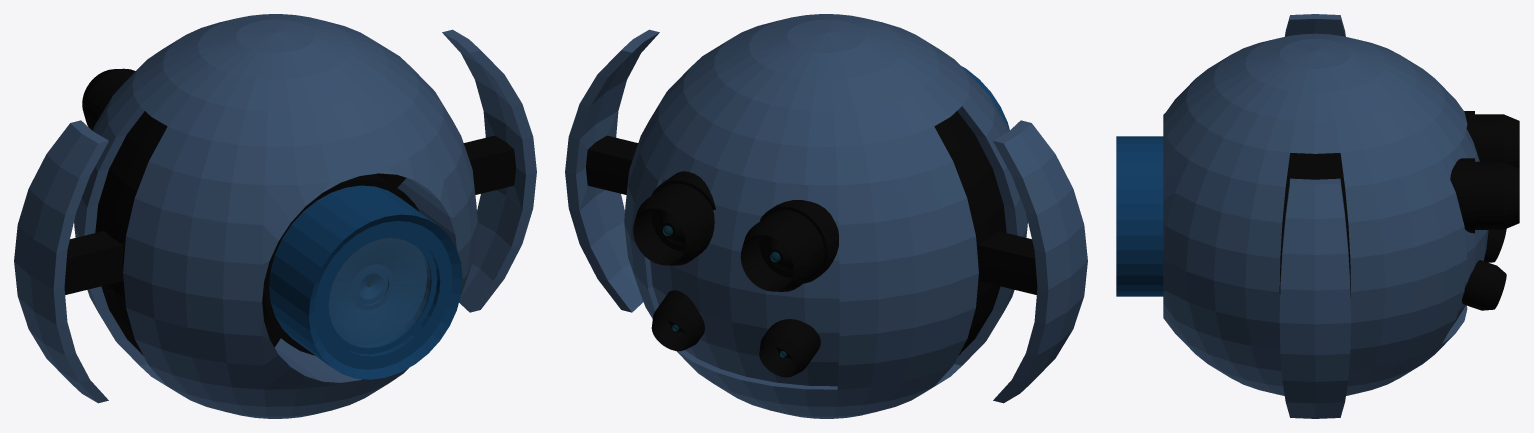
The model's file is AuroraNoMotion.fbx.
The picture shows the model from 3 angles, left to right: view 1: azimuth 30°, elevation 25°; view 2: azimuth 150°, elevation 25°; view 3: azimuth 270°, elevation 25°; orthographic projection. The views are drawn at different scales.
Visible parts, largest first — view 1: Aurora, AuroraWing; view 2: Aurora, AuroraWing; view 3: Aurora, AuroraWing.
Boxes of the visible parts, x1,y1,x2,y2 form: Aurora: (74,14,477,418); AuroraWing: (14,29,536,403); Aurora: (624,14,1027,418); AuroraWing: (565,29,1087,403); Aurora: (1116,33,1519,395); AuroraWing: (1279,14,1350,418).
Bounding box in the file's own units: 317 × 225 × 250.
3 materials, 3 textured.
